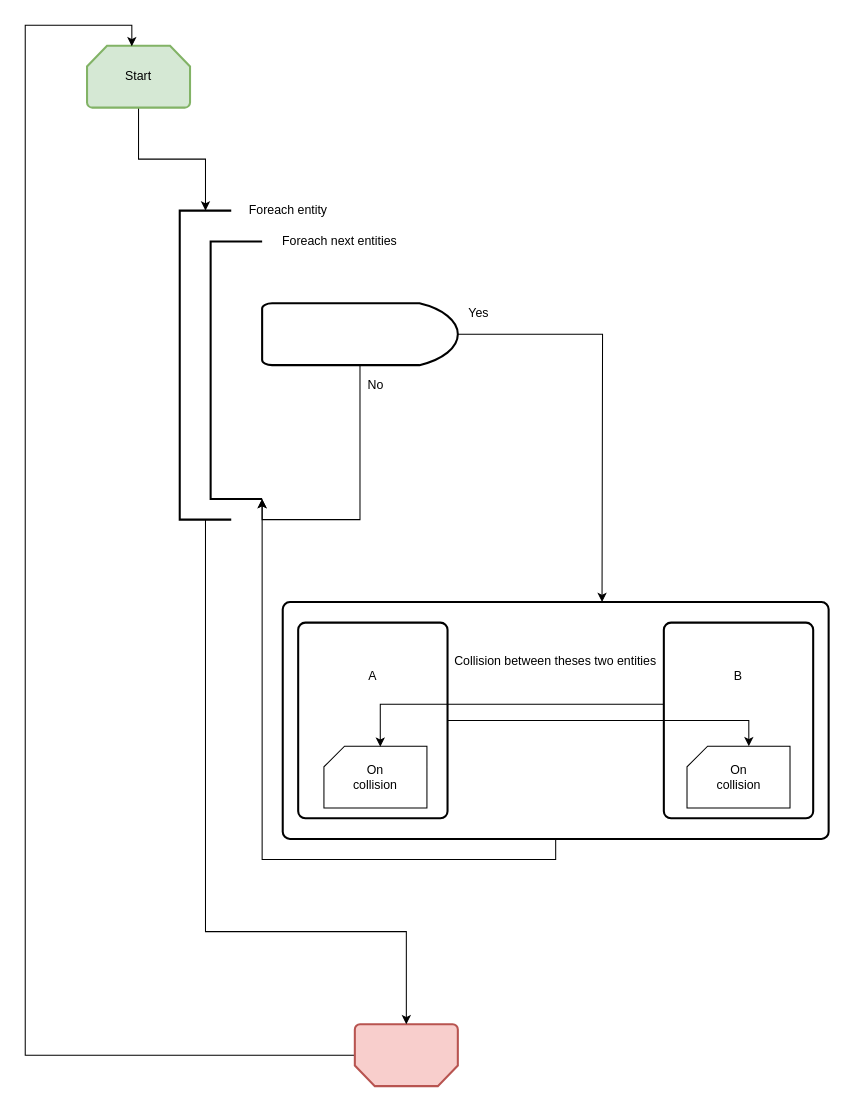
This 848x1105 diagram has some shape labels left out. Here are the shapes that lost their labels. From the top down, the centre of each, then its label:
pixel 359 334: Check hitbox between two entities
pixel 405 1055: Stop
